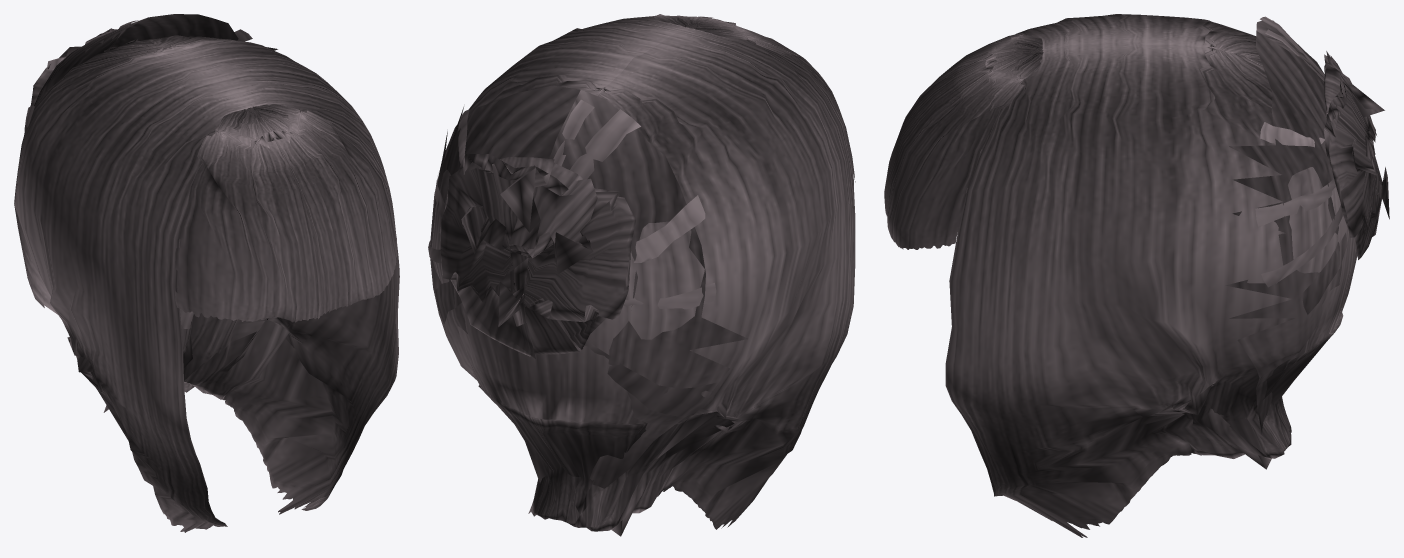
Rendered from hair_user_photo.glb.
The picture shows the model from 3 angles, left to right: view 1: azimuth 30°, elevation 25°; view 2: azimuth 150°, elevation 25°; view 3: azimuth 270°, elevation 25°; orthographic projection. The views are drawn at different scales.
Visible parts, largest first — view 1: hair_user_photo; view 2: hair_user_photo; view 3: hair_user_photo.
Part boxes in pixels (bbox=[...]): hair_user_photo: bbox=[14, 14, 399, 532]; hair_user_photo: bbox=[428, 14, 855, 536]; hair_user_photo: bbox=[884, 14, 1389, 537].
Size of the model in its own units: 0.1431 by 0.2093 by 0.1959.
Materials: 1 (1 with a texture image).
